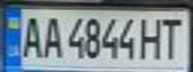4: (63, 13, 84, 60), (118, 15, 139, 61), (100, 15, 121, 60)
8: (81, 13, 103, 60)
A: (18, 12, 45, 60), (39, 12, 63, 60)
H: (136, 14, 166, 61)
T: (157, 15, 187, 60)
